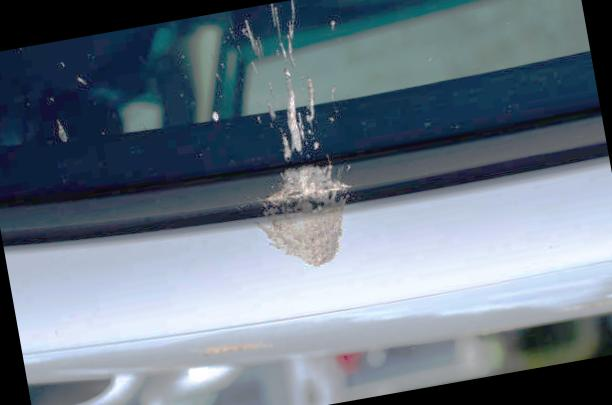Bird Poop: (257, 165, 348, 266), (265, 0, 317, 158), (241, 18, 265, 76), (203, 343, 274, 356), (58, 119, 67, 142), (329, 85, 336, 101), (212, 112, 219, 120)
